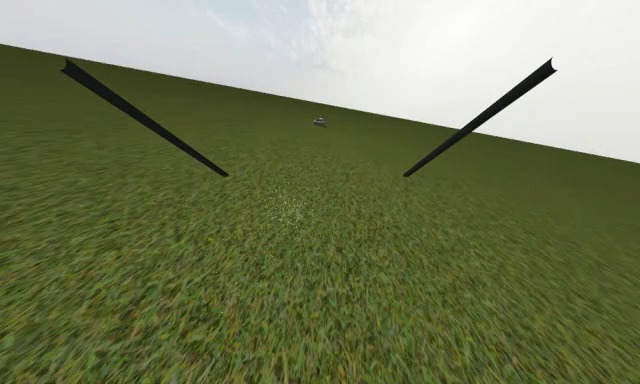Car: (311, 116, 330, 127)
